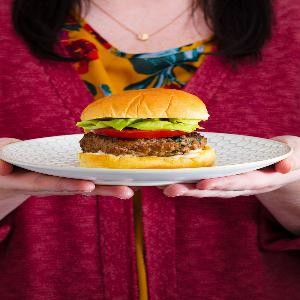cheeseburger: (76, 86, 220, 176)
